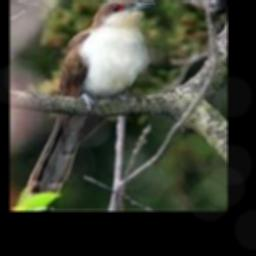Cuckoo: (26, 0, 157, 194)
